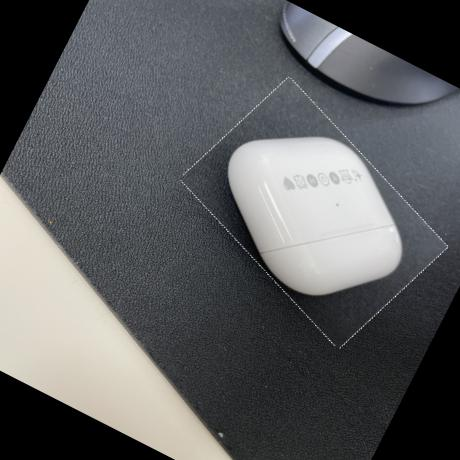airpod3: (159, 74, 459, 354)
